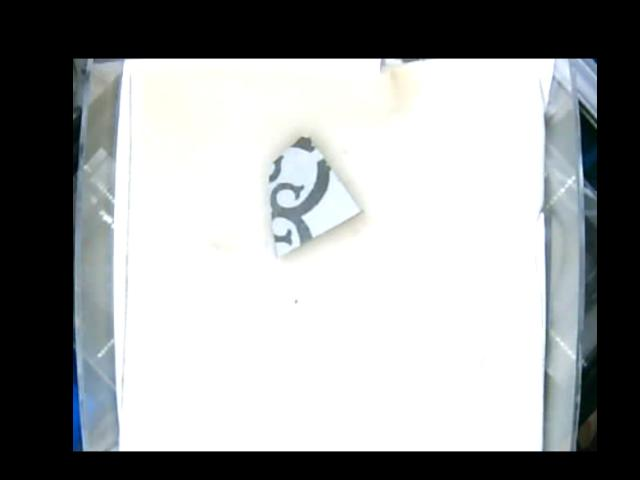China: (268, 133, 362, 255)
